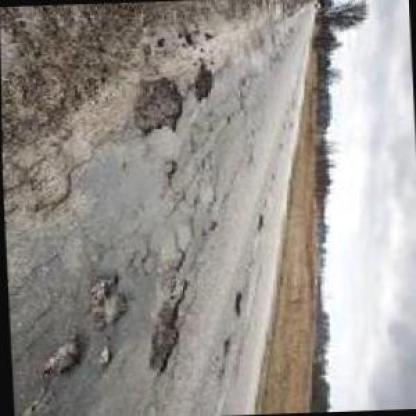pothole: (144, 283, 196, 376), (132, 75, 184, 136), (86, 274, 129, 328), (37, 336, 86, 380), (192, 61, 216, 104), (97, 342, 112, 367)
